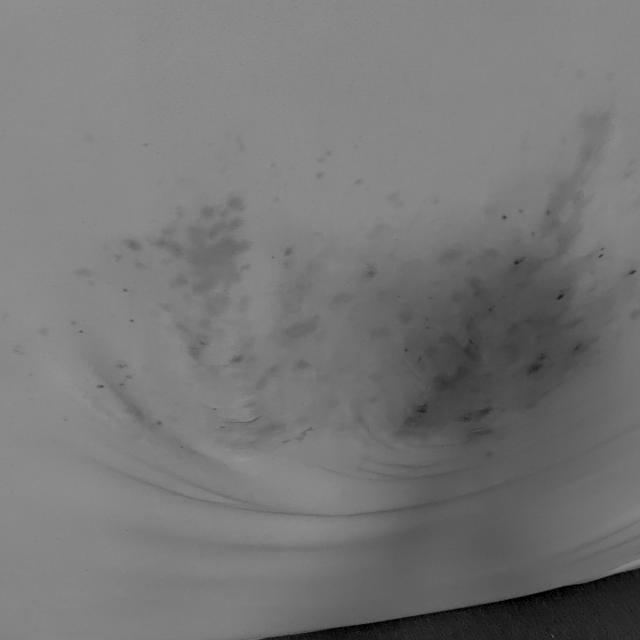stain marks: (87, 156, 612, 518)
